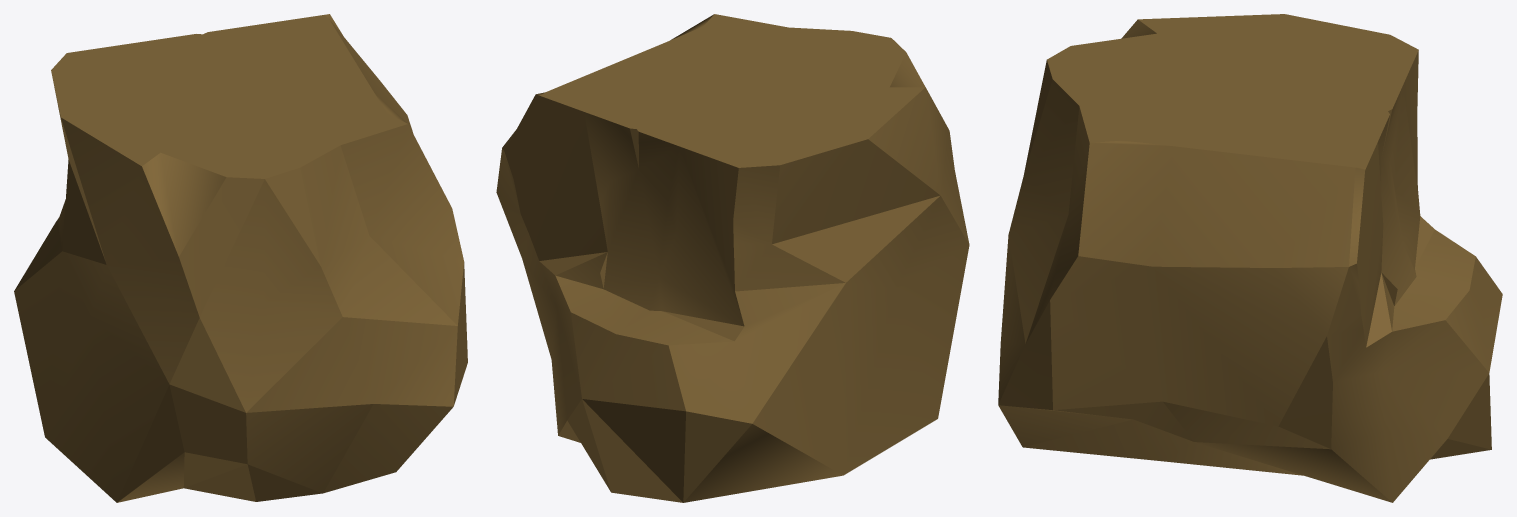
The model's file is RockB1.FBX.
The picture shows the model from 3 angles, left to right: view 1: azimuth 30°, elevation 25°; view 2: azimuth 150°, elevation 25°; view 3: azimuth 270°, elevation 25°; orthographic projection. The views are drawn at different scales.
Parts seen in each view (by area): view 1: GeoSphere026; view 2: GeoSphere026; view 3: GeoSphere026.
Boxes of the visible parts, box(x1,y1,x2,y2) form: GeoSphere026: box(14, 14, 467, 502); GeoSphere026: box(496, 14, 969, 502); GeoSphere026: box(998, 14, 1502, 502).
Size of the model in its own units: 221 by 187 by 243.
